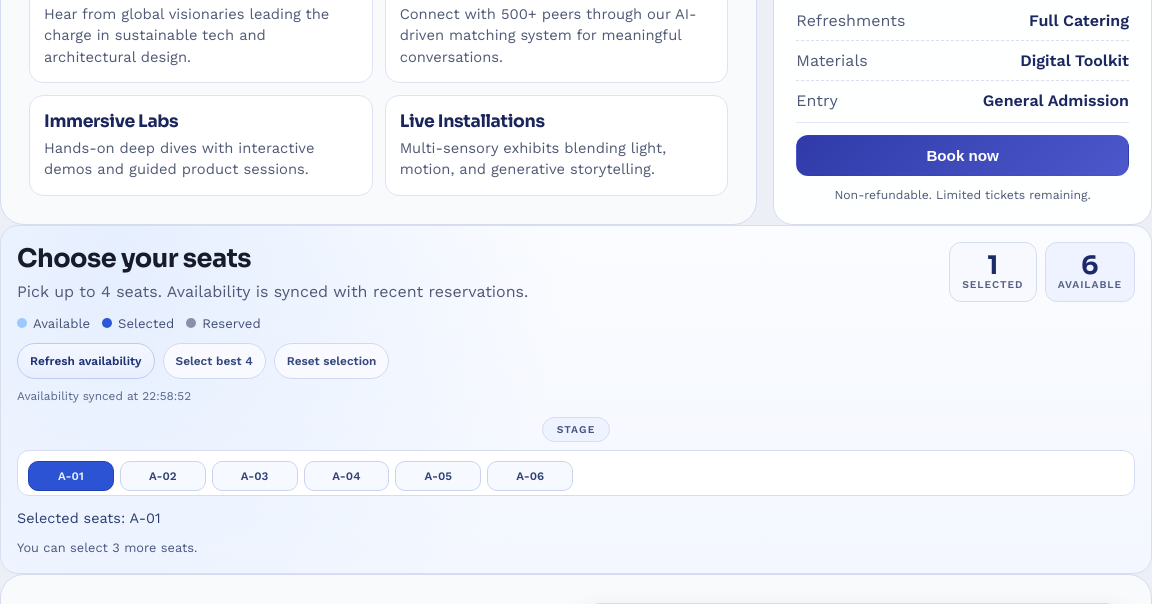
it: ReservationPage seat-map action bar › shows a success toast after refreshing availability
(page scrolled)
Click the button "Refresh availability" at (86, 361), box 17,343 -> 154,379
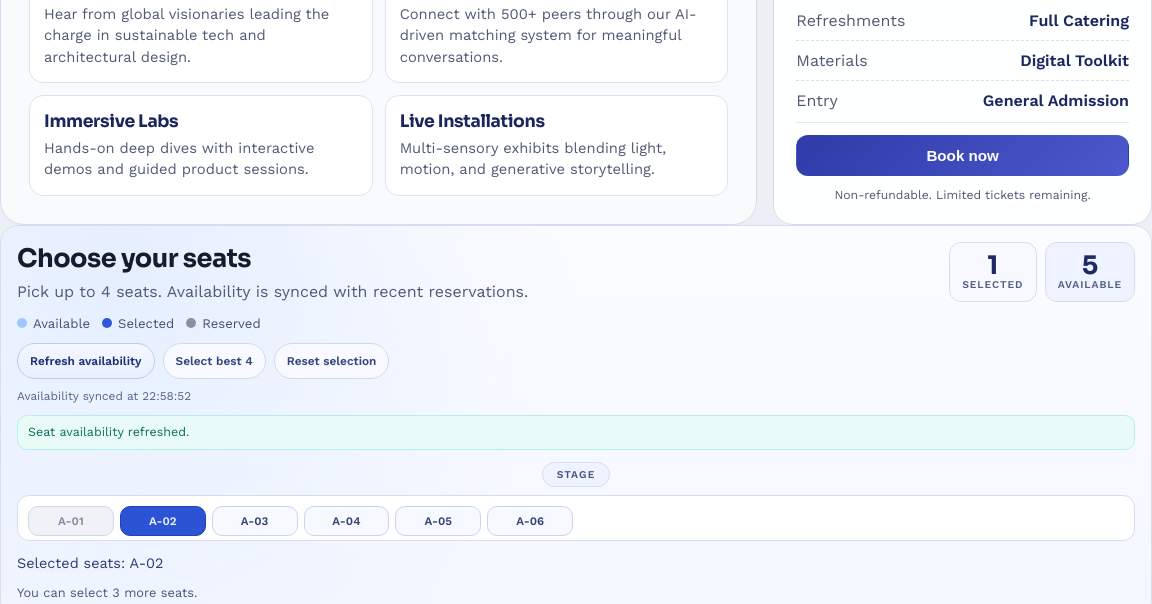
expect the text "Seat availability refreshed." is shown: met, box 17,415 -> 1135,450
